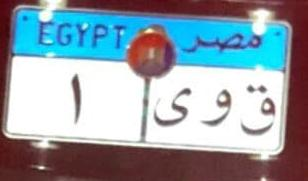1: (58, 72, 93, 128)
ق: (236, 80, 282, 136)
و: (208, 84, 234, 129)
ي: (142, 78, 195, 134)
